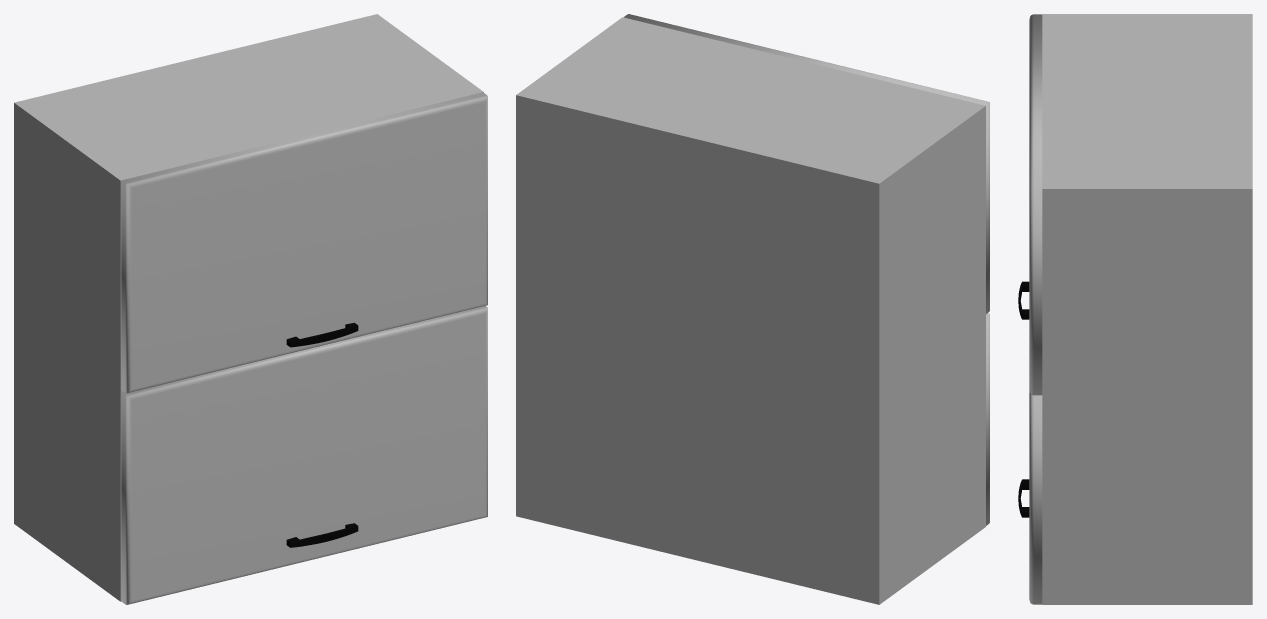
3 views of the same model, side by side, from view 1: azimuth 30°, elevation 25°; view 2: azimuth 150°, elevation 25°; view 3: azimuth 270°, elevation 25° (orthographic).
Visible parts, largest first — view 1: Box001, Box011, Box029, Obj3d66-503491-2-356, Obj3d66-503491-2-345; view 2: Box001, Box011, Box029; view 3: Box001, Box011, Box029.
Boxes of the visible parts, <box> form: Box001: <box>14,14,483,601</box>; Box011: <box>121,92,487,393</box>; Box029: <box>121,306,487,604</box>; Obj3d66-503491-2-356: <box>286,322,358,347</box>; Obj3d66-503491-2-345: <box>286,523,358,547</box>; Box001: <box>516,17,985,604</box>; Box011: <box>624,14,989,313</box>; Box029: <box>986,313,989,525</box>; Box001: <box>1042,14,1252,604</box>; Box011: <box>1029,14,1042,395</box>; Box029: <box>1029,391,1042,604</box>.
Bounding box in the file's own units: 0.65 × 0.72 × 0.3671.
2 materials, 1 textured.
